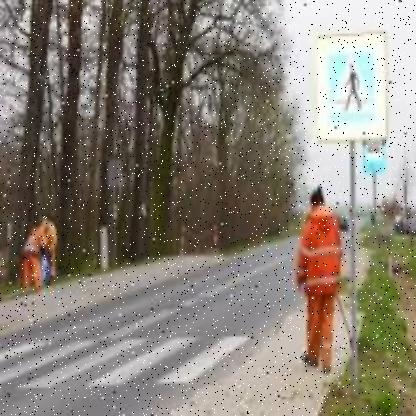Pedestrian Crossing: (324, 46, 379, 129)
